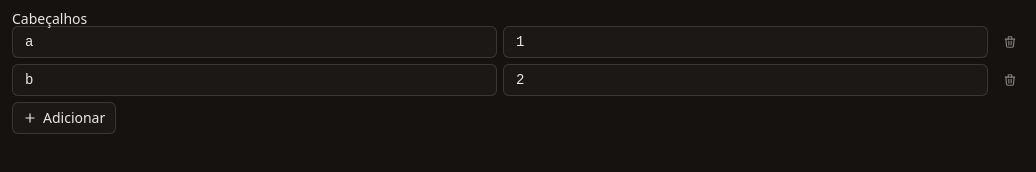
KeyValueField › remover apaga a linha certa
Click the button named "Remover item 1".
click(1010, 42)  # box [994,26,1026,58]
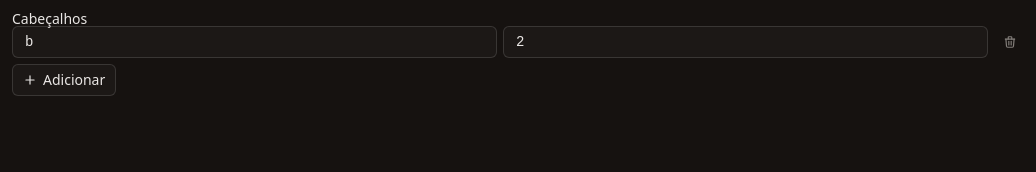
Check: the field named "Nome do item 1" holds "b", box [12,26,497,58]
